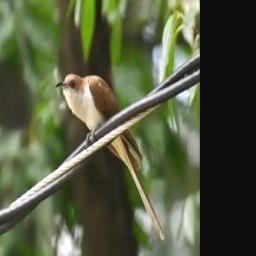Cuckoo: (54, 70, 166, 243)
